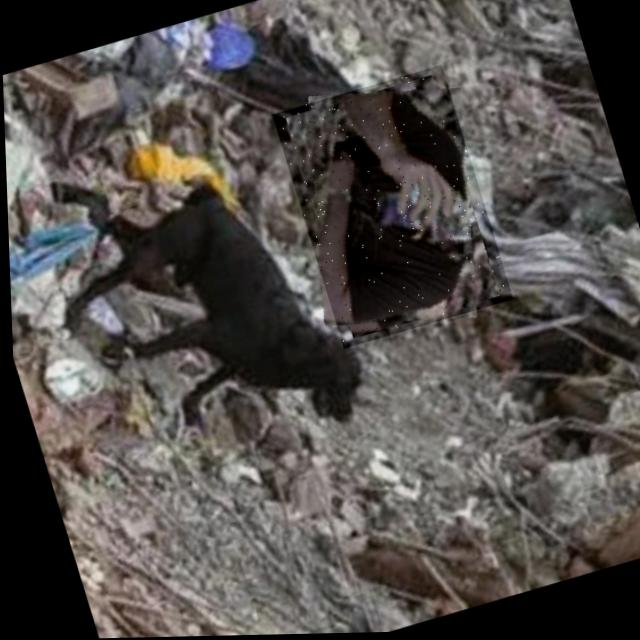Person in Rubble: (269, 66, 511, 351)
